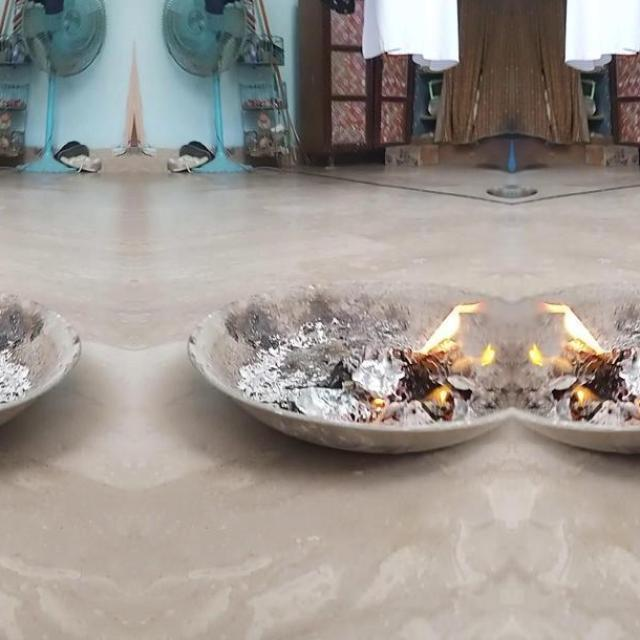smoke: (408, 299, 503, 368), (521, 299, 616, 368)
